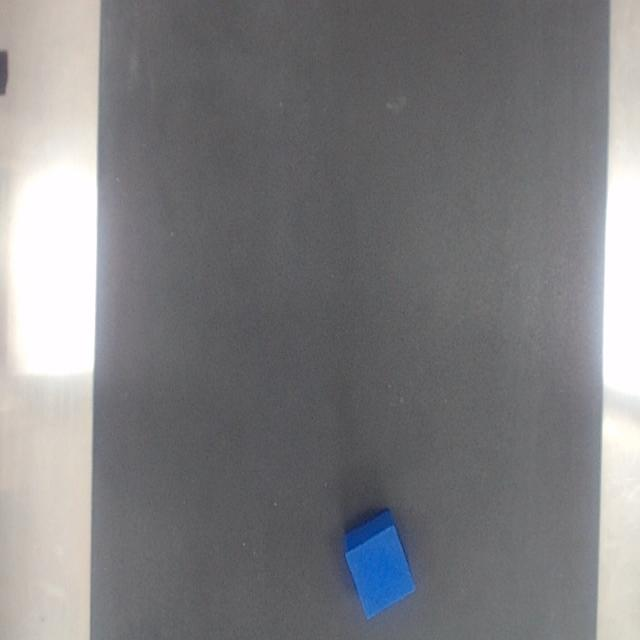Azul: (345, 509, 415, 619)
